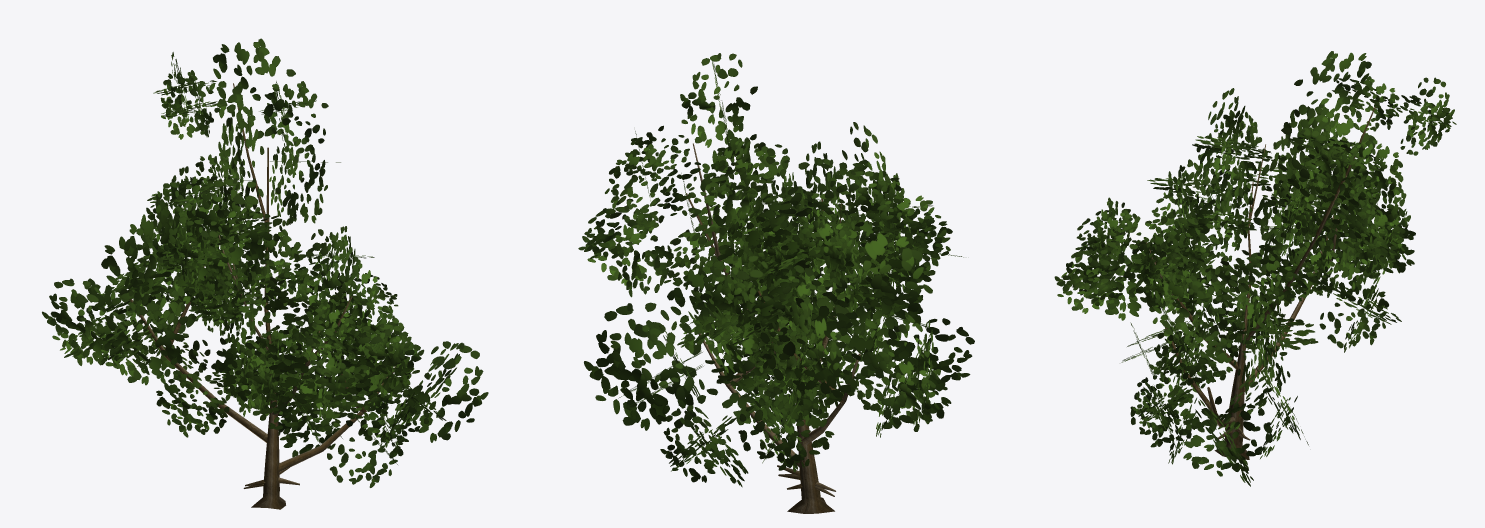
File: env_tree_prairie_ancient_01.glb
3 views of the same model, side by side, from view 1: azimuth 30°, elevation 25°; view 2: azimuth 150°, elevation 25°; view 3: azimuth 270°, elevation 25° (orthographic). The views are drawn at different scales.
Parts seen in each view (by area): view 1: tree_prairie_ancient_01; view 2: tree_prairie_ancient_01; view 3: tree_prairie_ancient_01.
Part boxes in pixels (x1,y1,x2,y2): tree_prairie_ancient_01: (42, 38, 488, 509); tree_prairie_ancient_01: (578, 53, 974, 513); tree_prairie_ancient_01: (1054, 51, 1456, 486).
Bounding box in the file's own units: 21.14 × 22.06 × 19.43.
2 materials, 2 textured.
